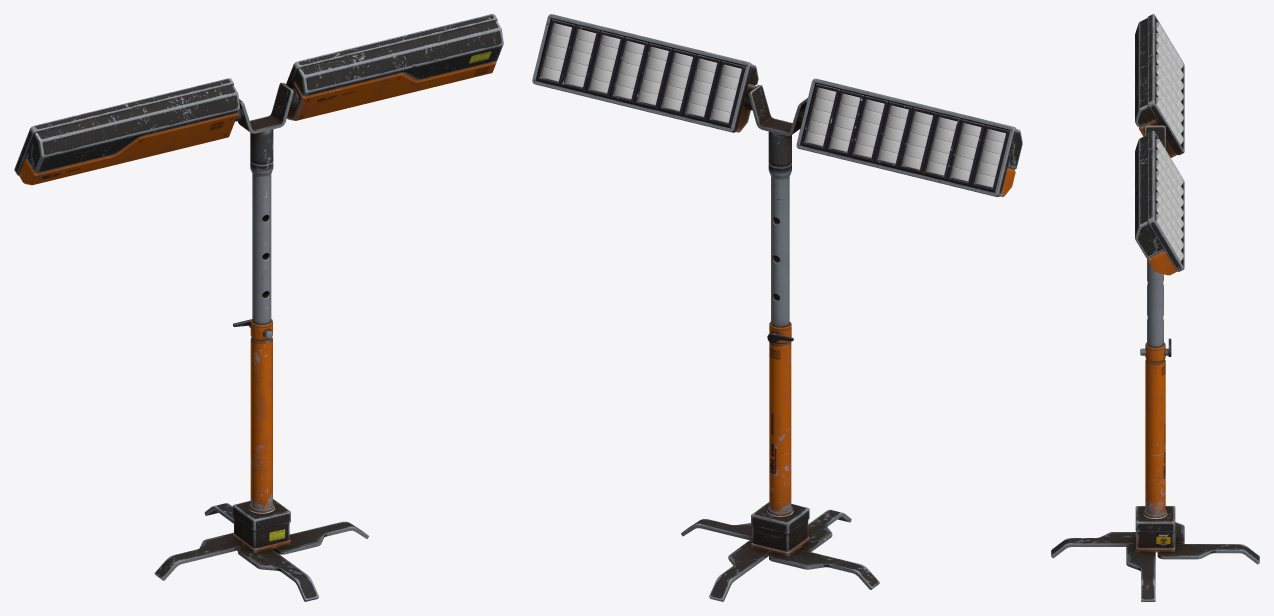
File: SM_Light_Style03.fbx
3 views of the same model, side by side, from view 1: azimuth 30°, elevation 25°; view 2: azimuth 150°, elevation 25°; view 3: azimuth 270°, elevation 25° (orthographic). The views are drawn at different scales.
Parts seen in each view (by area): view 1: SM_Light_Style03_LOD0; view 2: SM_Light_Style03_LOD0; view 3: SM_Light_Style03_LOD0.
Part boxes in pixels (<box>): SM_Light_Style03_LOD0: <box>14,14,503,601</box>; SM_Light_Style03_LOD0: <box>532,14,1022,601</box>; SM_Light_Style03_LOD0: <box>1051,14,1259,601</box>.
Bounding box in the file's own units: 145 × 62.37 × 146.
Materials: 2 (1 with a texture image).
